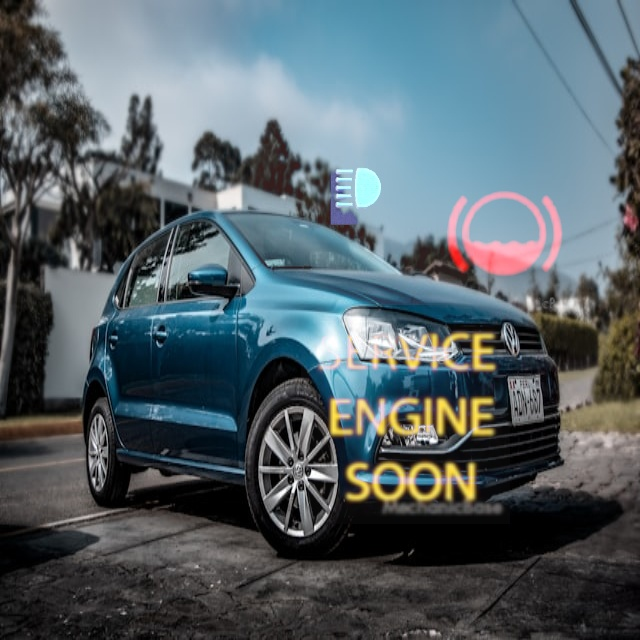symbol: (250, 87, 468, 305), (301, 315, 510, 524), (422, 153, 586, 317)
